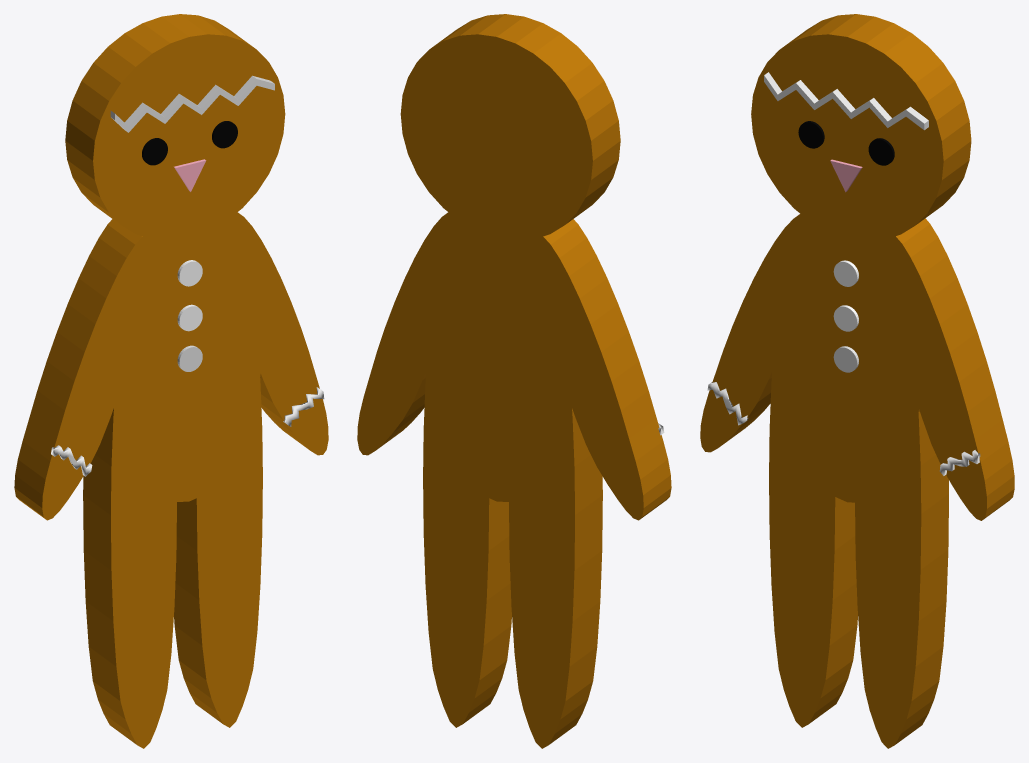
Rendered from cookie.glb.
3 views of the same model, side by side, from view 1: azimuth 30°, elevation 25°; view 2: azimuth 150°, elevation 25°; view 3: azimuth 330°, elevation 25° (orthographic).
Visible parts, largest first — view 1: 실린더.002, 큐브.002, 실린더.004, 실린더.001, 실린더, 실린더.003, 실린더.005; view 2: 실린더.002; view 3: 실린더.002, 큐브.002, 실린더.004, 실린더.005, 실린더.003, 실린더, 실린더.001.
Part boxes in pixels (box(x1,y1,x2,y2)): 실린더.002: box(14, 14, 328, 748); 큐브.002: box(110, 75, 274, 132); 실린더.004: box(142, 121, 237, 165); 실린더.001: box(177, 304, 202, 331); 실린더: box(177, 260, 202, 286); 실린더.003: box(177, 345, 202, 371); 실린더.005: box(174, 159, 206, 191); 실린더.002: box(357, 14, 671, 748); 실린더.002: box(700, 14, 1014, 748); 큐브.002: box(764, 72, 928, 130); 실린더.004: box(798, 121, 894, 165); 실린더.005: box(830, 159, 862, 192); 실린더.003: box(833, 346, 858, 372); 실린더: box(833, 260, 858, 286); 실린더.001: box(833, 305, 858, 331).
Bounding box in the file's own units: 2.98 × 6.97 × 0.5808.
